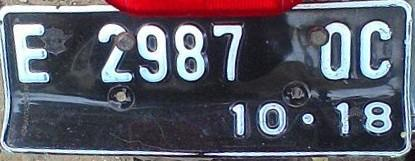clone-license-plate: (1, 4, 409, 153)
